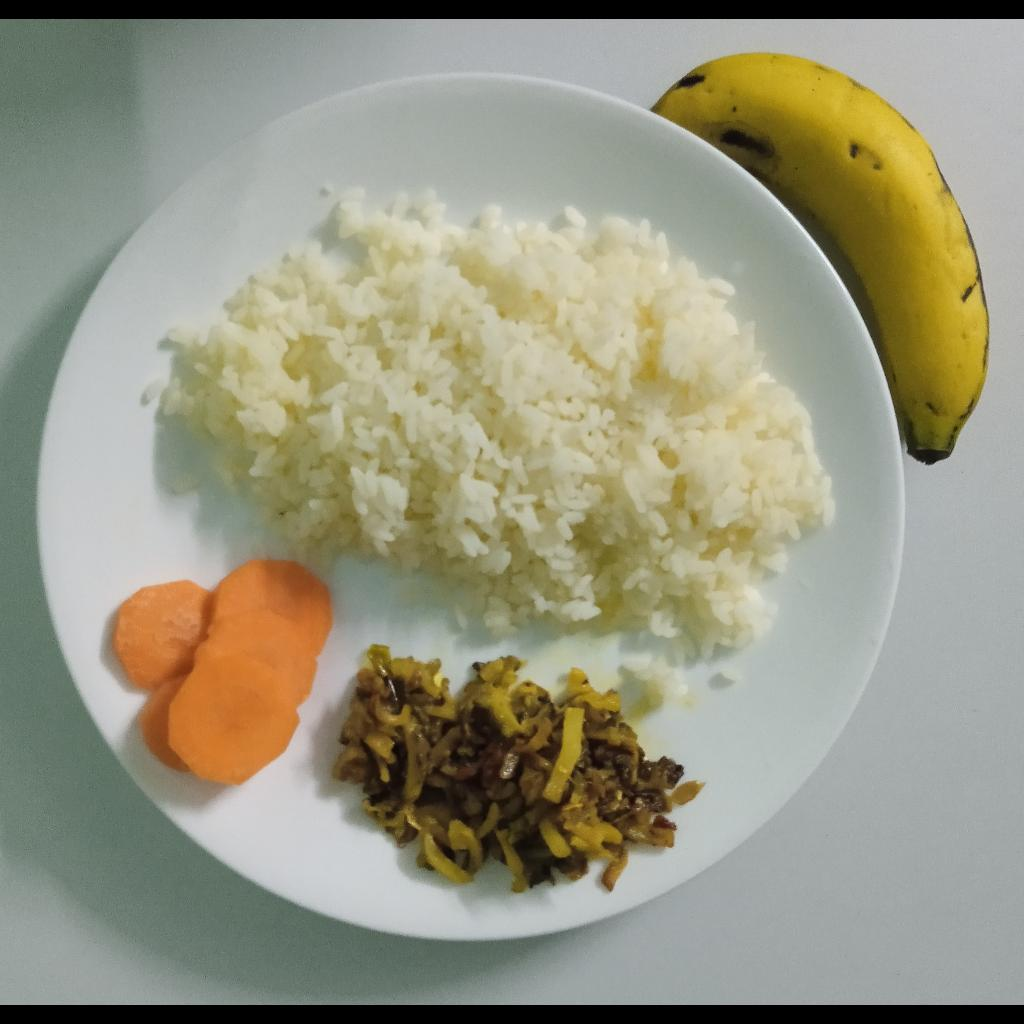banana: (653, 49, 989, 467)
carrot: (111, 561, 337, 785)
rice: (143, 191, 839, 708)
vegetable: (333, 646, 707, 891)
